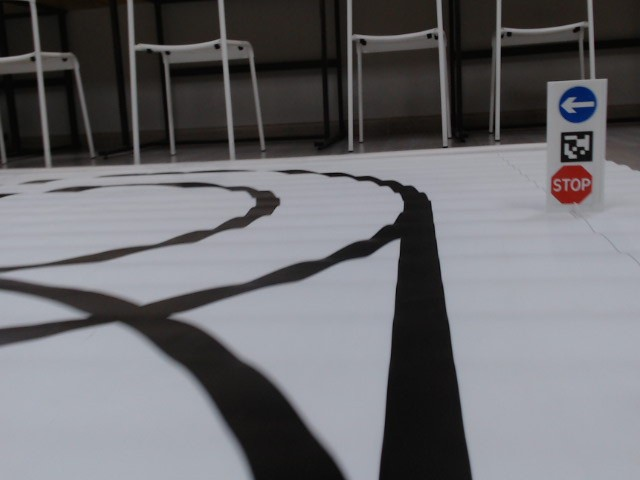Stop: (549, 165, 591, 205)
